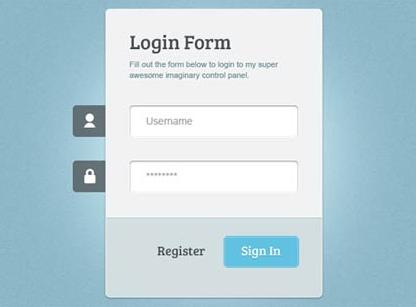button: (222, 235, 300, 269)
field: (129, 104, 299, 140), (128, 160, 300, 195)
